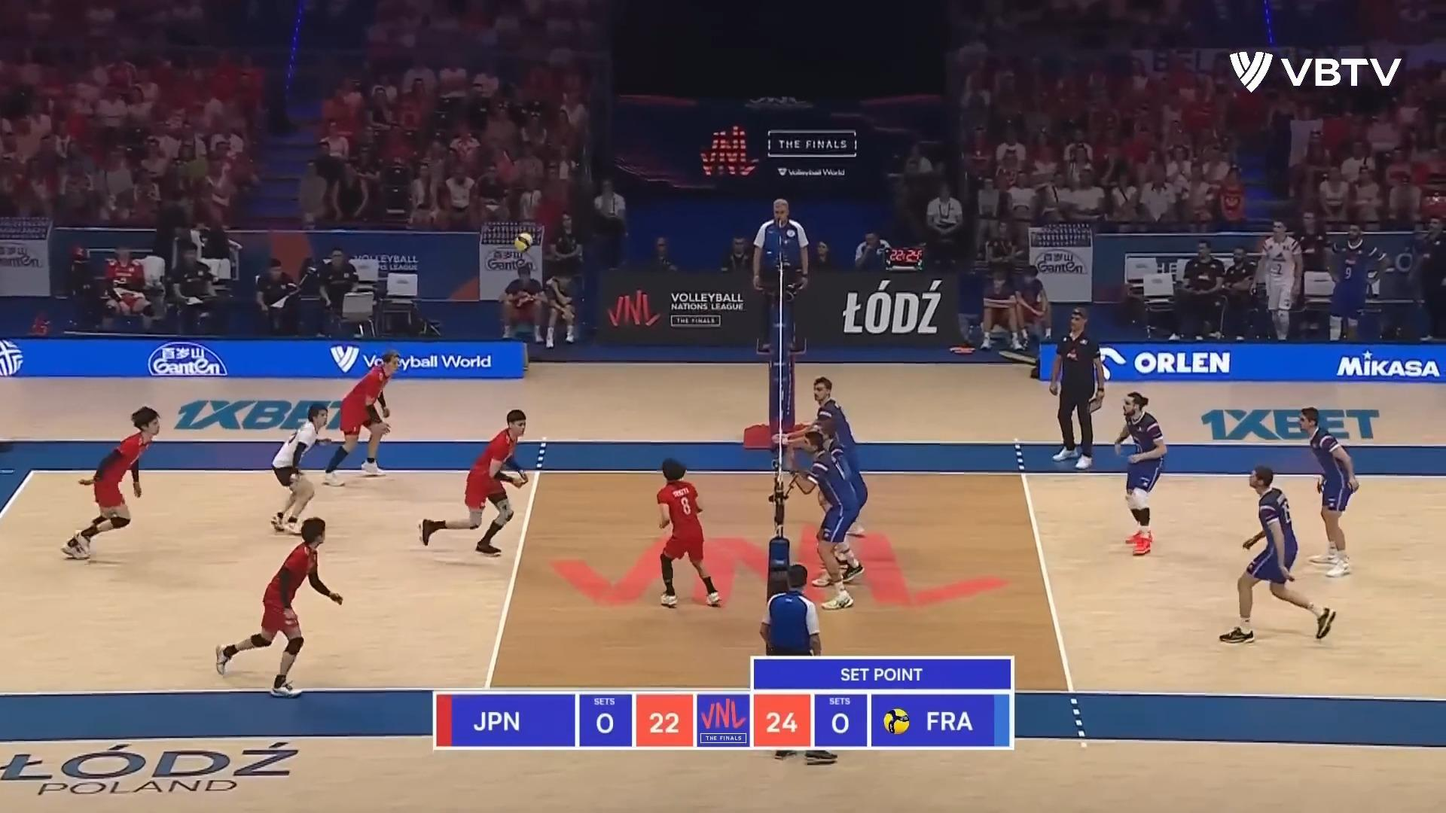ball: (513, 233, 535, 253)
